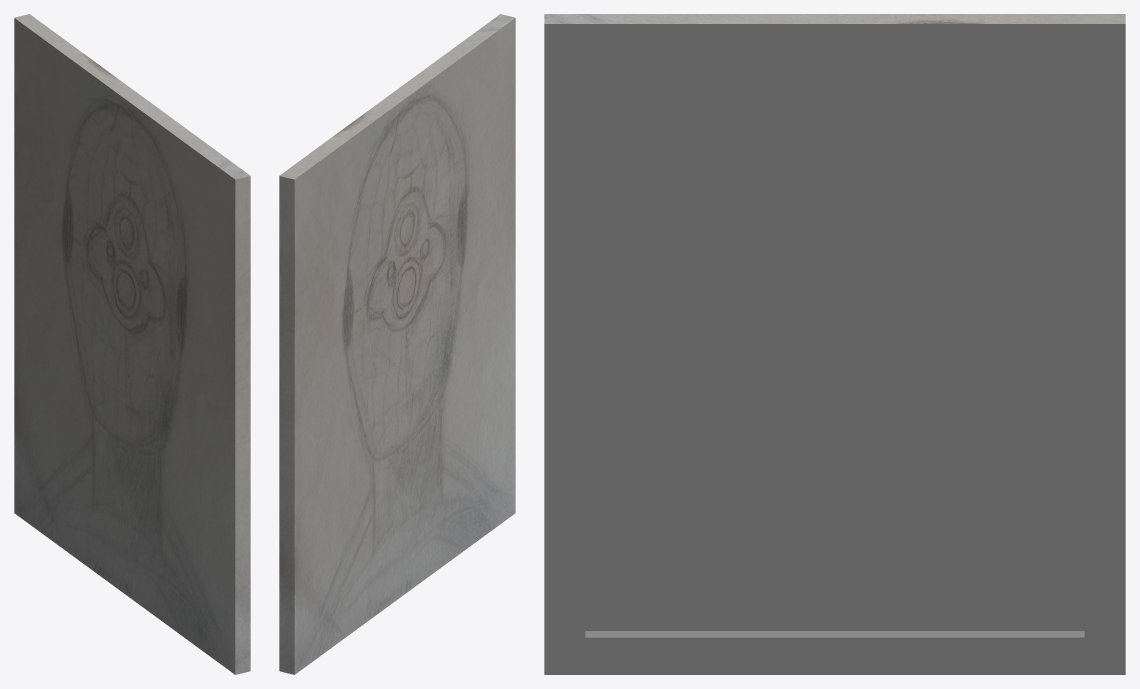
File: painting1.FBX
The picture shows the model from 3 angles, left to right: view 1: azimuth 30°, elevation 25°; view 2: azimuth 150°, elevation 25°; view 3: azimuth 270°, elevation 25°; orthographic projection. The views are drawn at different scales.
Parts seen in each view (by area): view 1: Box001; view 2: Box001; view 3: Box001.
Boxes of the visible parts, box(x1,y1,x2,y2) form: Box001: box(14, 14, 250, 674); Box001: box(279, 14, 515, 674); Box001: box(544, 14, 1125, 674).
Bounding box in the file's own units: 1.37 × 41.94 × 33.94.
Materials: 2 (1 with a texture image).
